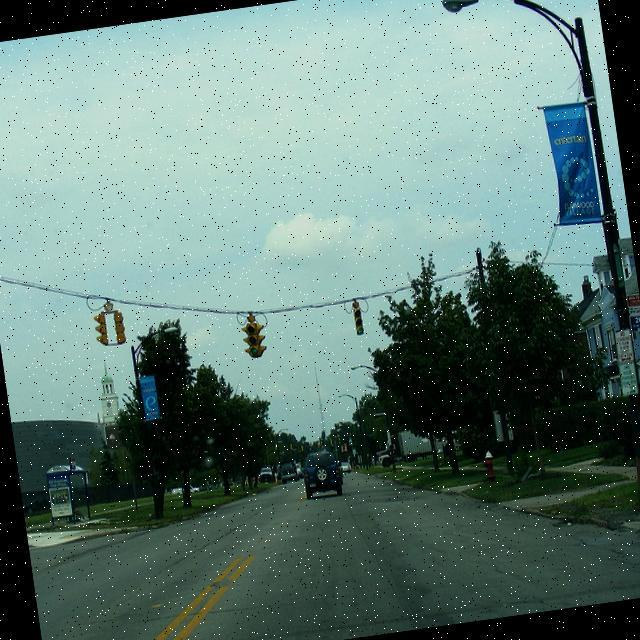fire_hydrant: (480, 448, 500, 484)
